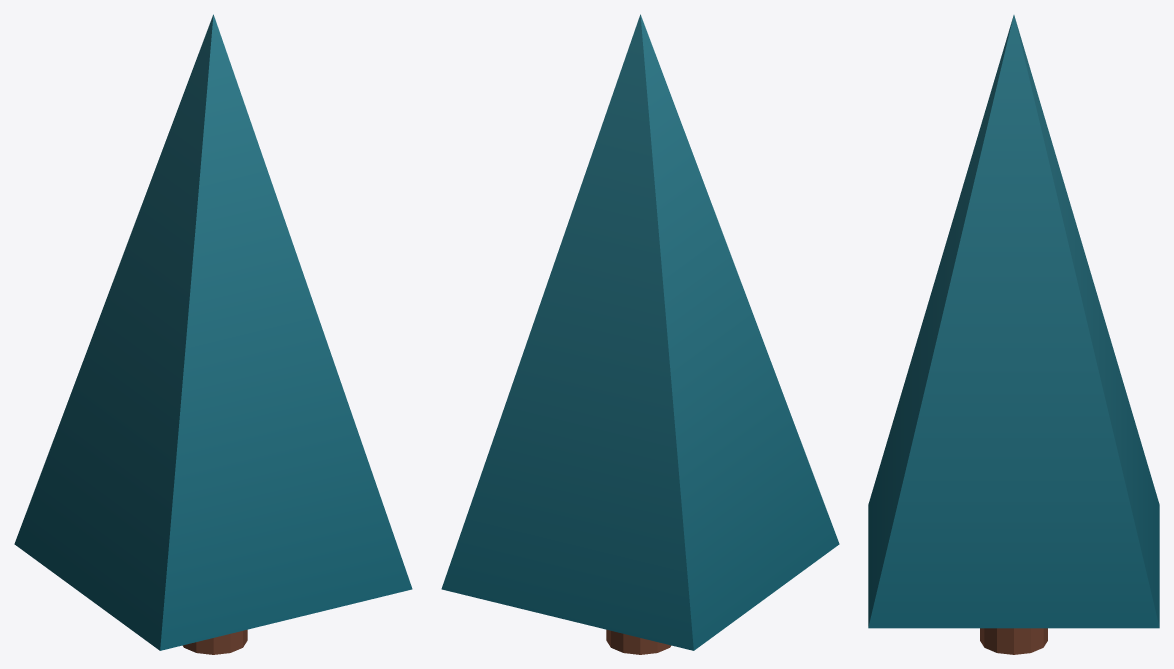
The model's file is Tree_36_gradient_blue_vc.fbx.
3 views of the same model, side by side, from view 1: azimuth 30°, elevation 25°; view 2: azimuth 150°, elevation 25°; view 3: azimuth 270°, elevation 25° (orthographic).
Parts seen in each view (by area): view 1: Tree_36_gradient_blue_vc; view 2: Tree_36_gradient_blue_vc; view 3: Tree_36_gradient_blue_vc.
Boxes of the visible parts, box(x1,y1,x2,y2) form: Tree_36_gradient_blue_vc: box(14, 14, 412, 654); Tree_36_gradient_blue_vc: box(441, 14, 839, 654); Tree_36_gradient_blue_vc: box(868, 15, 1159, 654).
Size of the model in its own units: 69.07 by 164 by 69.07.
